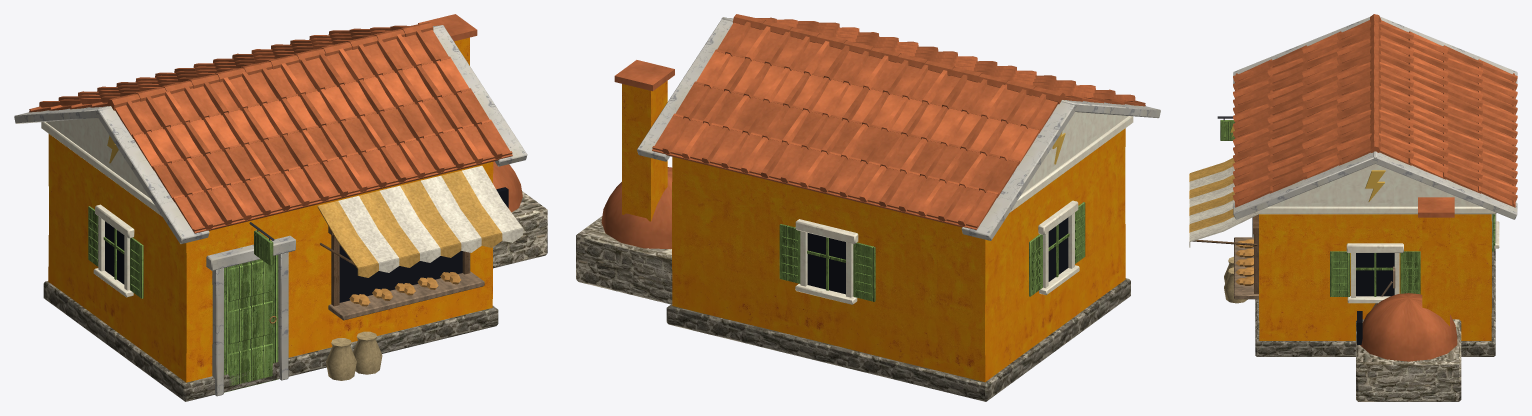
File: biz_bakery_t1.glb
The picture shows the model from 3 angles, left to right: view 1: azimuth 30°, elevation 25°; view 2: azimuth 150°, elevation 25°; view 3: azimuth 270°, elevation 25°; orthographic projection. The views are drawn at different scales.
Parts seen in each view (by area): view 1: ochre, terracotta0, terracotta1, terracotta2, marble, olive_wood, stone_dark, cloth_ochre, cloth_cream, cream, dark, stone (+4 smaller); view 2: ochre, terracotta0, terracotta1, terracotta2, stone_dark, cream, marble, stone, olive_wood, dark; view 3: ochre, terracotta1, terracotta0, terracotta2, cream, stone, marble, stone_dark, olive_wood, cloth_cream, dark, cloth_ochre (+5 smaller).
Boxes of the visible parts, left/top/right/bottom form: ochre: left=48, top=37, right=493, bottom=382; terracotta0: left=29, top=14, right=512, bottom=233; terracotta1: left=29, top=22, right=522, bottom=231; terracotta2: left=50, top=27, right=491, bottom=220; marble: left=14, top=25, right=527, bottom=396; olive_wood: left=88, top=206, right=278, bottom=392; stone_dark: left=43, top=281, right=498, bottom=401; cloth_ochre: left=317, top=170, right=502, bottom=277; cloth_cream: left=338, top=165, right=522, bottom=272; cream: left=41, top=118, right=162, bottom=297; dark: left=105, top=187, right=508, bottom=302; stone: left=493, top=191, right=547, bottom=268; ochre: left=622, top=81, right=1125, bottom=382; terracotta0: left=614, top=17, right=1145, bottom=229; terracotta1: left=601, top=14, right=1145, bottom=249; terracotta2: left=673, top=19, right=1124, bottom=216; stone_dark: left=666, top=278, right=1130, bottom=401; cream: left=795, top=112, right=1133, bottom=304; marble: left=637, top=17, right=1160, bottom=240; stone: left=576, top=216, right=672, bottom=304; olive_wood: left=779, top=202, right=1085, bottom=301; dark: left=807, top=217, right=1068, bottom=294; ochre: left=1259, top=214, right=1491, bottom=340; terracotta1: left=1233, top=14, right=1517, bottom=361; terracotta0: left=1233, top=20, right=1517, bottom=217; terracotta2: left=1233, top=32, right=1517, bottom=193; cream: left=1254, top=164, right=1499, bottom=303; stone: left=1356, top=319, right=1461, bottom=401; marble: left=1233, top=16, right=1517, bottom=237; stone_dark: left=1255, top=248, right=1495, bottom=356; olive_wood: left=1220, top=120, right=1495, bottom=296; cloth_cream: left=1189, top=166, right=1257, bottom=247; dark: left=1356, top=253, right=1394, bottom=344; cloth_ochre: left=1189, top=158, right=1234, bottom=232.
Bounding box in the file's own units: 7.75 × 4.25 × 5.93.
20 materials, 17 textured.
